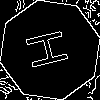H: (25, 25, 78, 71)
